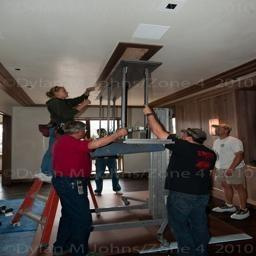no hat: (179, 117, 211, 158), (55, 114, 96, 144), (44, 82, 72, 106), (213, 119, 234, 146)
no vest: (166, 138, 216, 218), (210, 134, 254, 192), (57, 134, 89, 209), (40, 96, 69, 149)
